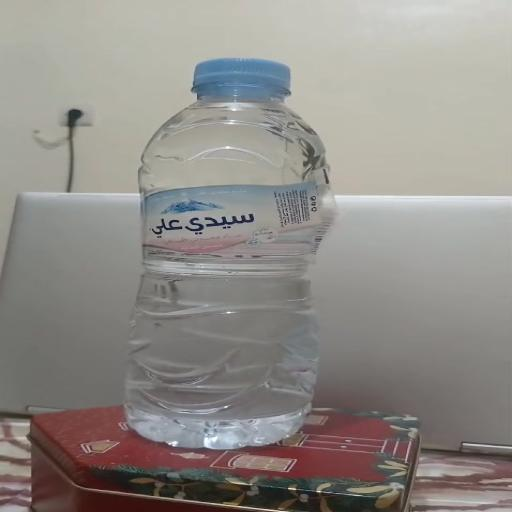bouteille conformite: (106, 58, 372, 472)
